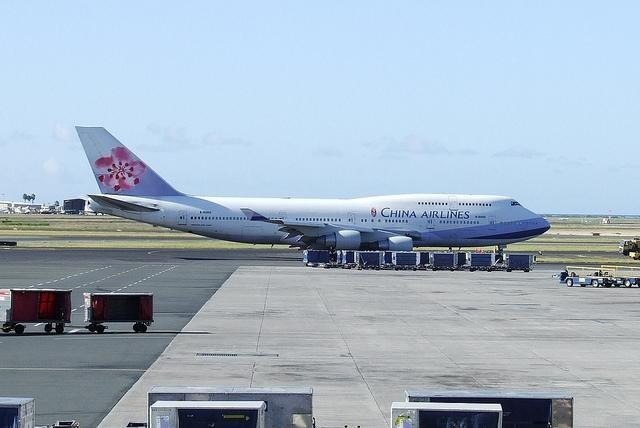truck: (1, 287, 74, 338), (82, 290, 154, 334), (551, 268, 615, 287)
